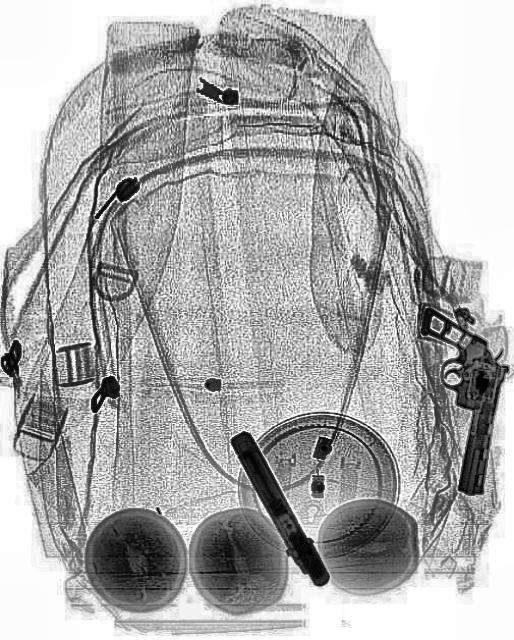Gun: (390, 305, 514, 497), (220, 424, 333, 594)
